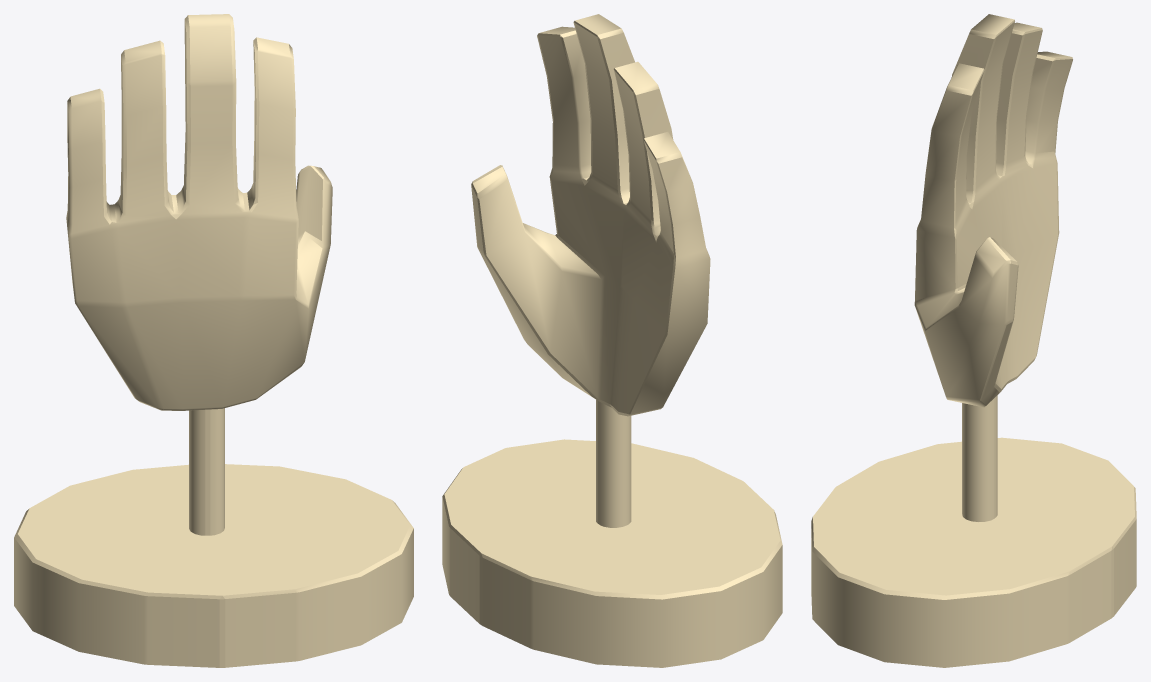
Rendered from Game_project1_assets_WoodenHand.fbx.
The picture shows the model from 3 angles, left to right: view 1: azimuth 30°, elevation 25°; view 2: azimuth 150°, elevation 25°; view 3: azimuth 270°, elevation 25°; orthographic projection.
Visible parts, largest first — view 1: Hand; view 2: Hand; view 3: Hand.
Boxes of the visible parts, x1,y1,x2,y2 form: Hand: (14,14,413,667); Hand: (442,14,782,667); Hand: (811,14,1136,667).
Bounding box in the file's own units: 21.94 × 36.05 × 18.8.
